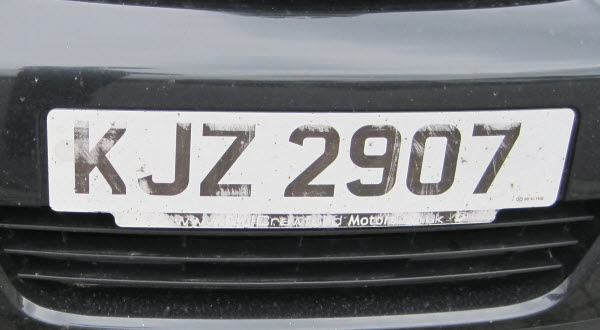license_plate: (47, 108, 576, 220)
